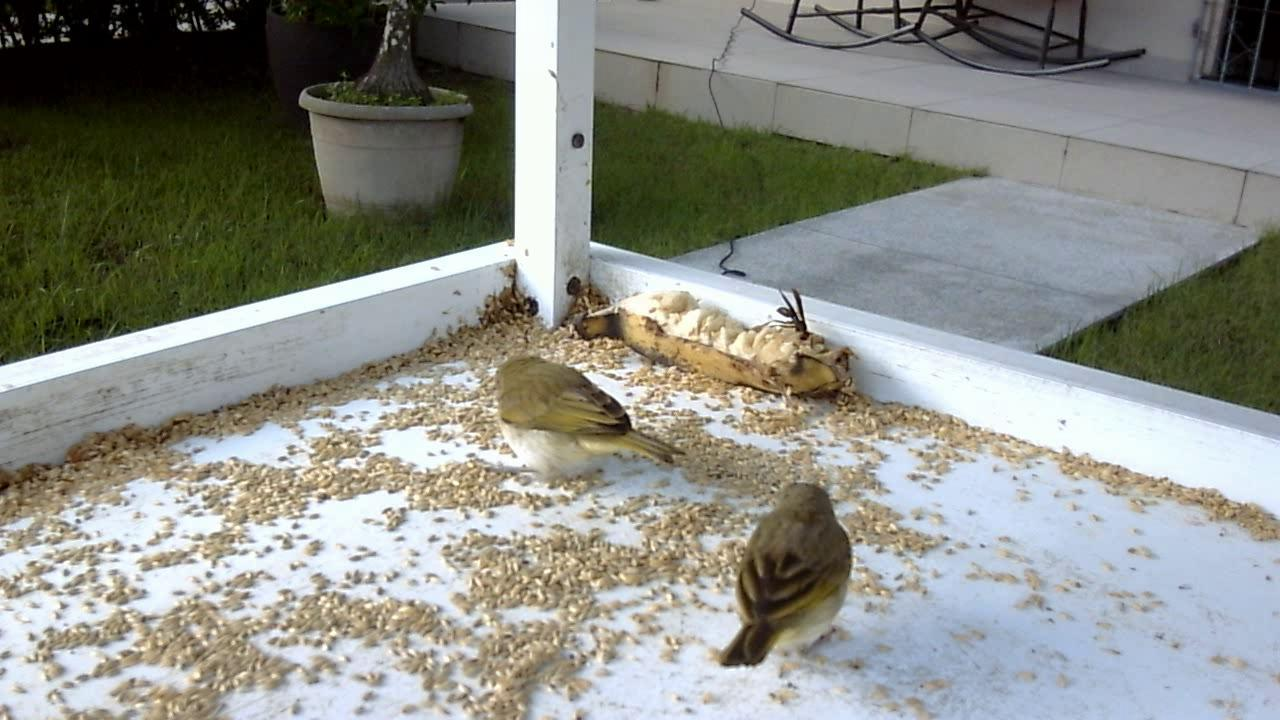canario_do_amazonas: (707, 475, 863, 677), (463, 356, 688, 494)
